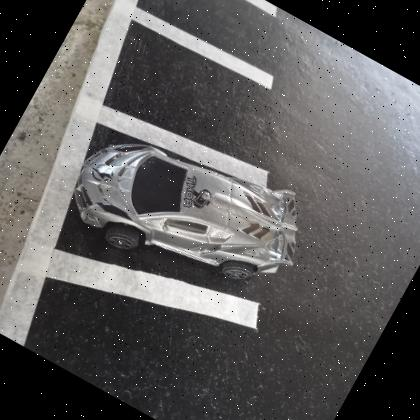Car: (72, 138, 296, 286)
